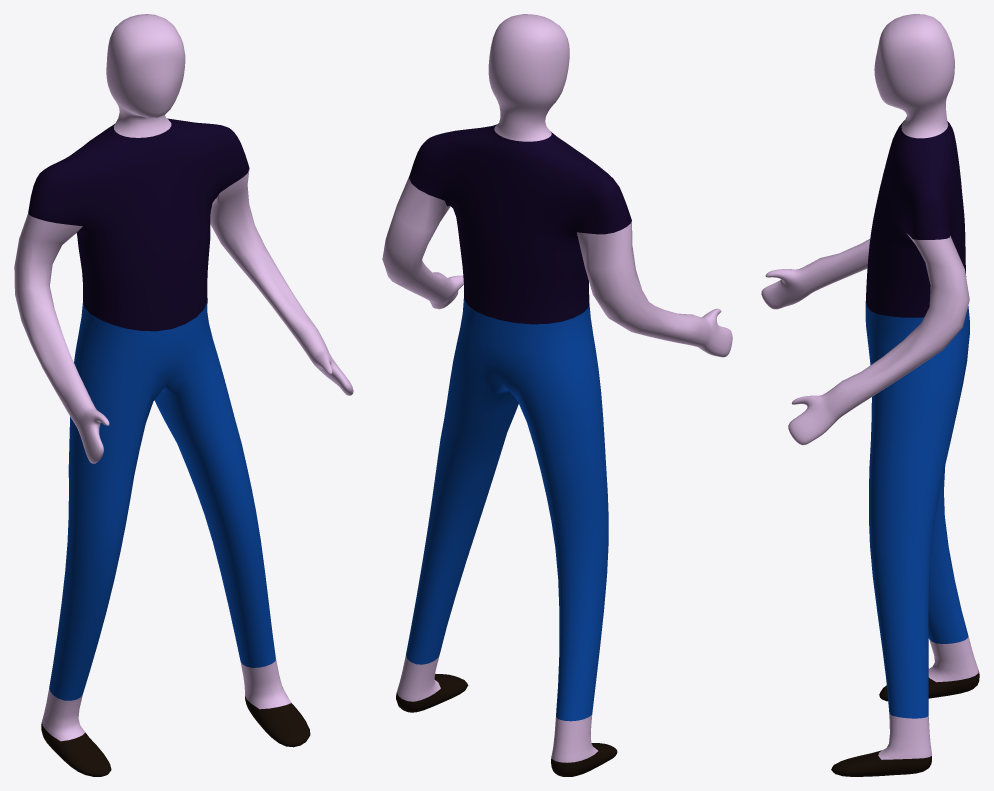
The model's file is BasicGuy.obj.
3 views of the same model, side by side, from view 1: azimuth 30°, elevation 25°; view 2: azimuth 150°, elevation 25°; view 3: azimuth 270°, elevation 25° (orthographic). The views are drawn at different scales.
Parts seen in each view (by area): view 1: Cube; view 2: Cube; view 3: Cube.
Boxes of the visible parts, <box> form: Cube: <box>14,14,353,776</box>; Cube: <box>382,14,732,776</box>; Cube: <box>761,14,979,776</box>.
Size of the model in its own units: 2.58 by 6.49 by 1.81.
